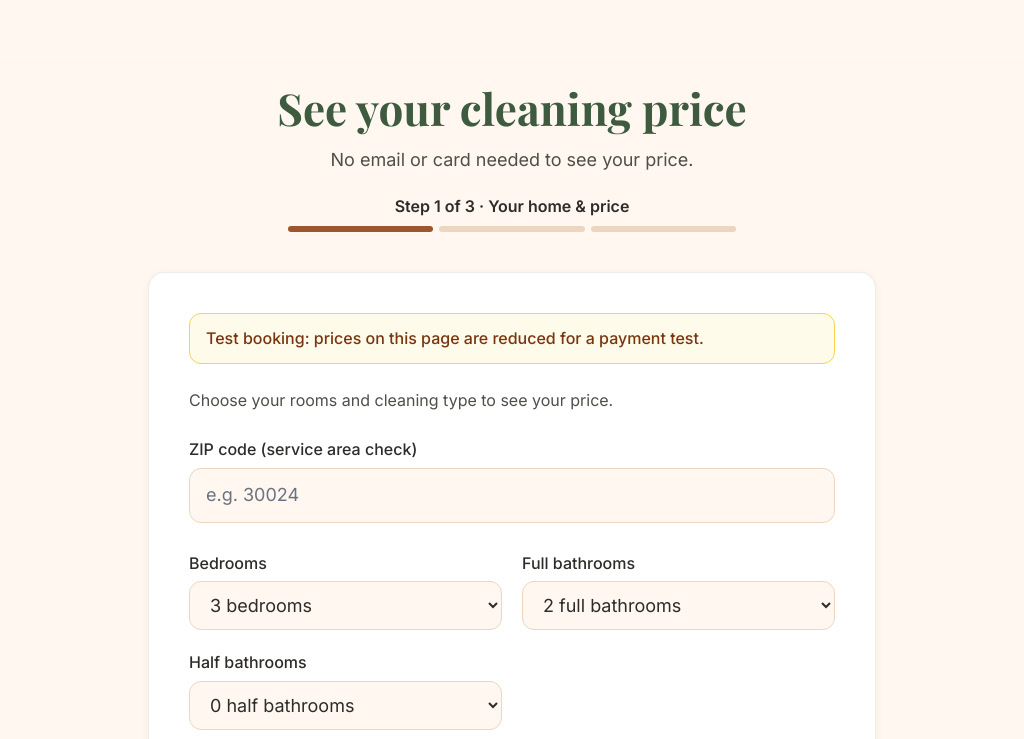
Test: group 1(b): quote summary lines › step 2 and step 3 join bedrooms/bathrooms with spaces and pluralise
Later steps or results of the test are not shown.
Type "30024" into the field labelled "ZIP code (service area check)" at (512, 495), box [189,468,835,523]
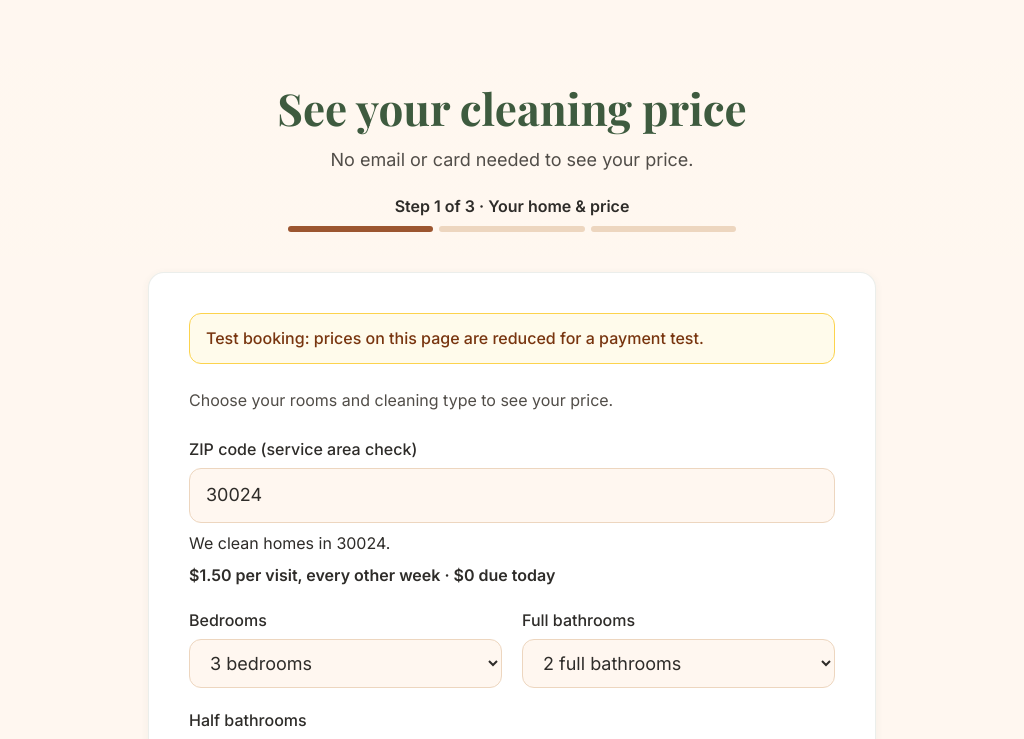
Select "2 bedrooms" in the dropdown labelled "Bedrooms" at (346, 664), box [189,639,502,688]
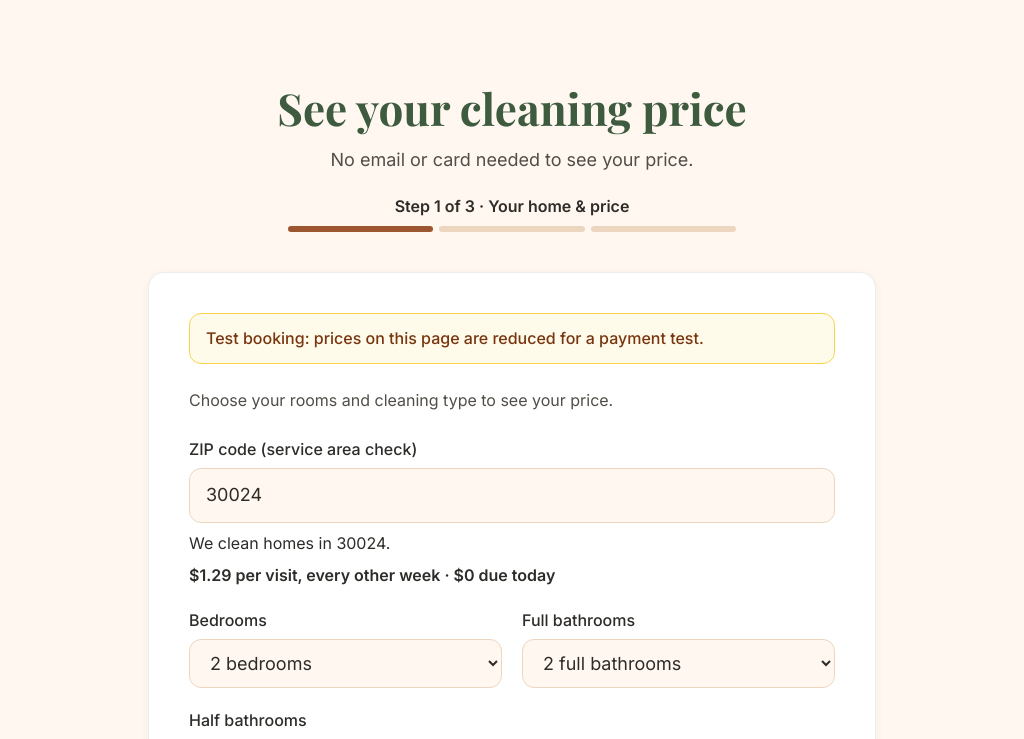
Select "1 full bathroom" in the dropdown labelled "Full bathrooms" at (678, 664), box [522,639,835,688]
(page scrolled)
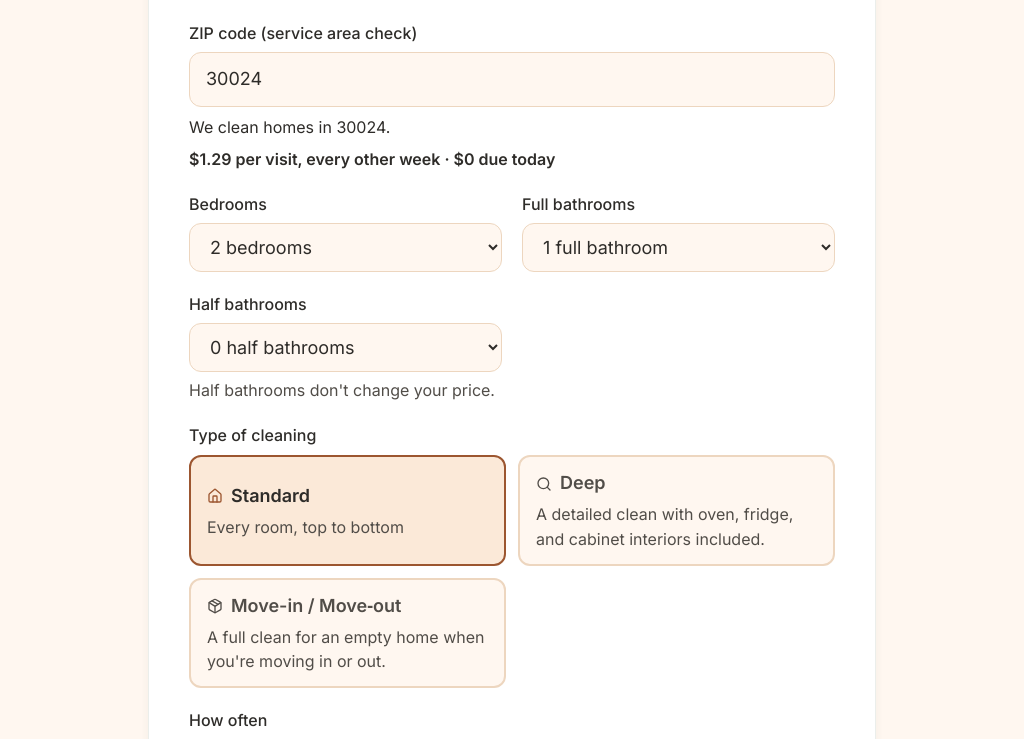
Select "1 half bathroom" in the dropdown labelled "Half bathrooms" at (346, 347), box [189,323,502,372]
(page scrolled)
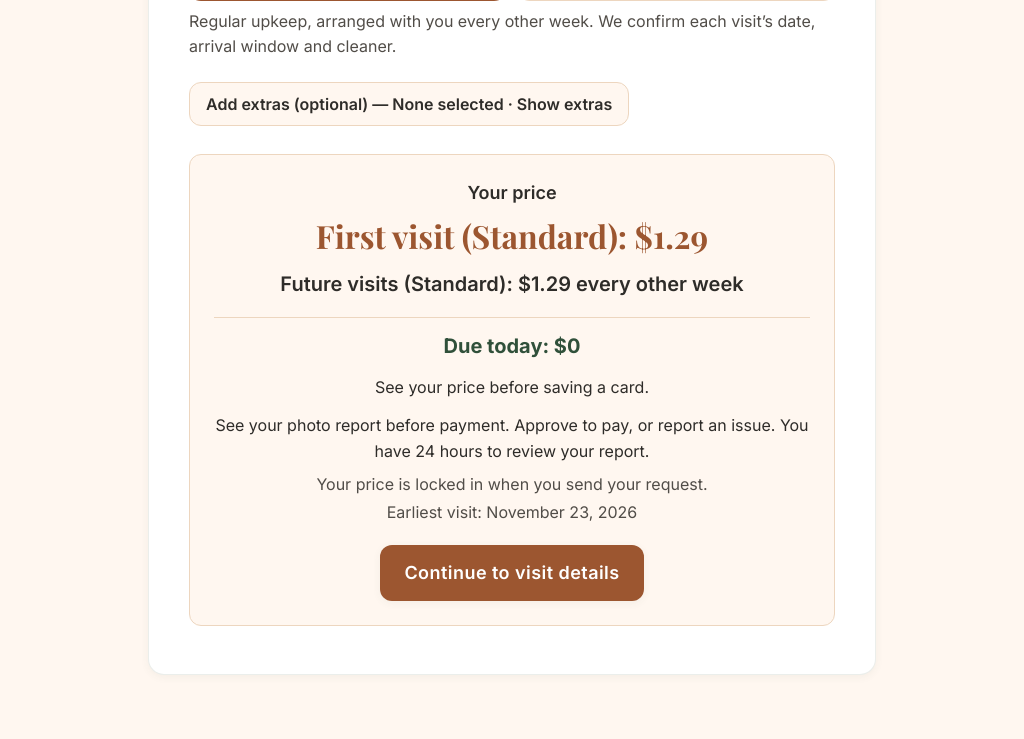
Click the button "Continue to visit details" at (512, 573), box [380,545,644,601]
(page scrolled)
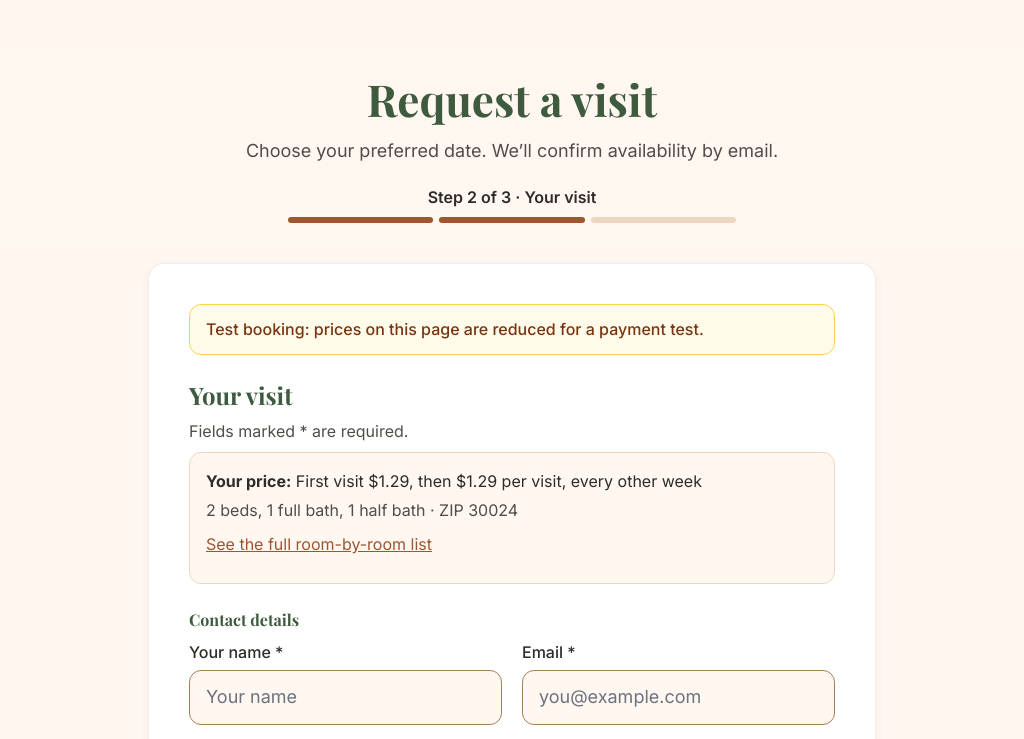
Check: the text "2 beds, 1 full bath, 1 half bath · ZIP 30024" is shown, box [206,500,518,520]
